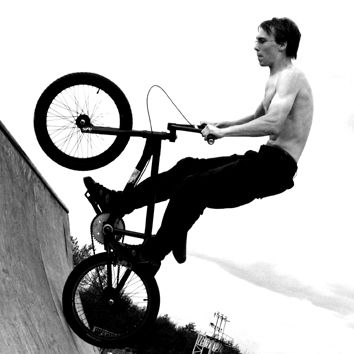person: (83, 16, 317, 279)
